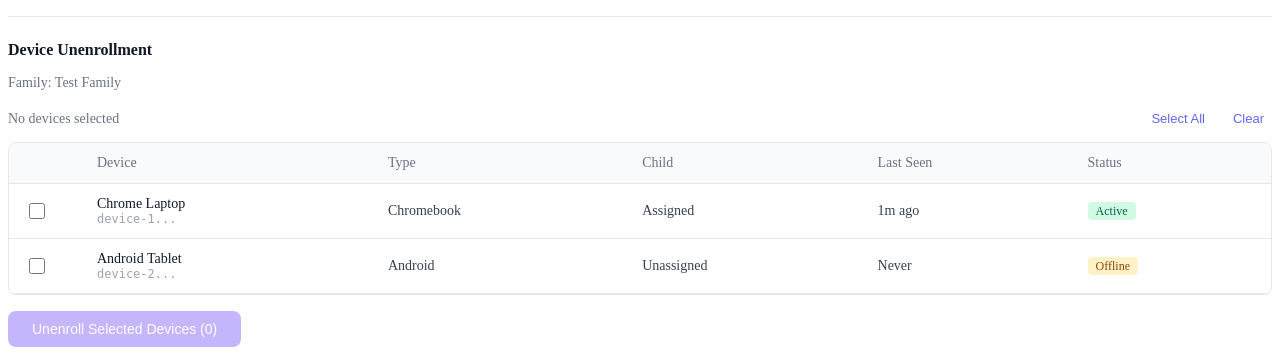
SafetyDeviceUnenrollSection › device selection › shows selection count
The width and height of the screenshot is (1280, 364).
Click the checkbox named "Select Chrome Laptop". click: (37, 210)
box: [29,202,45,218]
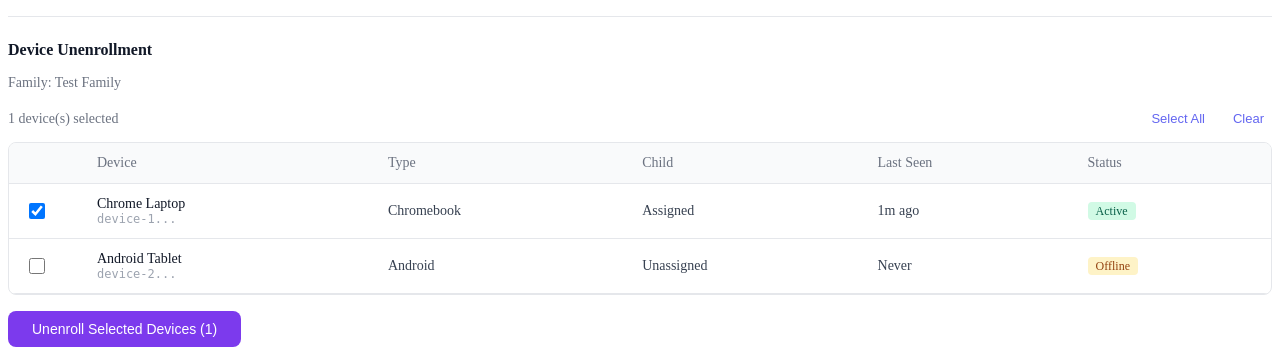
Result: the text "1 device(s) selected" is shown at [8,110,118,126]
